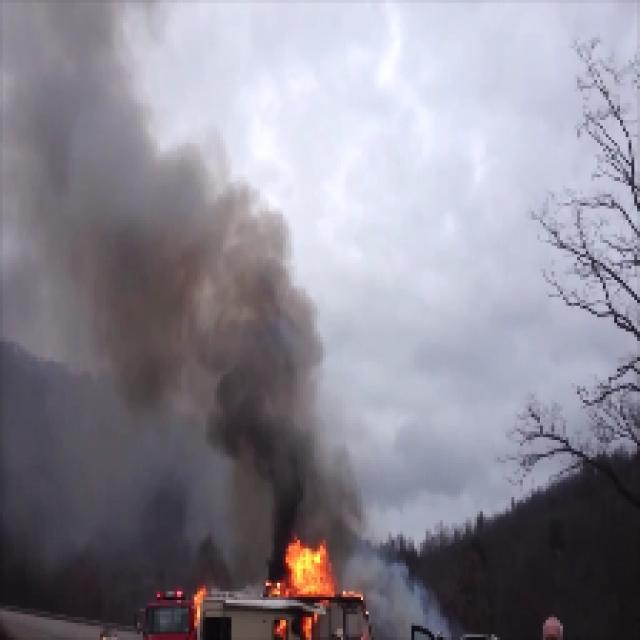fire: (284, 537, 330, 594)
smoke: (76, 152, 172, 338), (178, 209, 270, 374), (249, 372, 321, 512)
